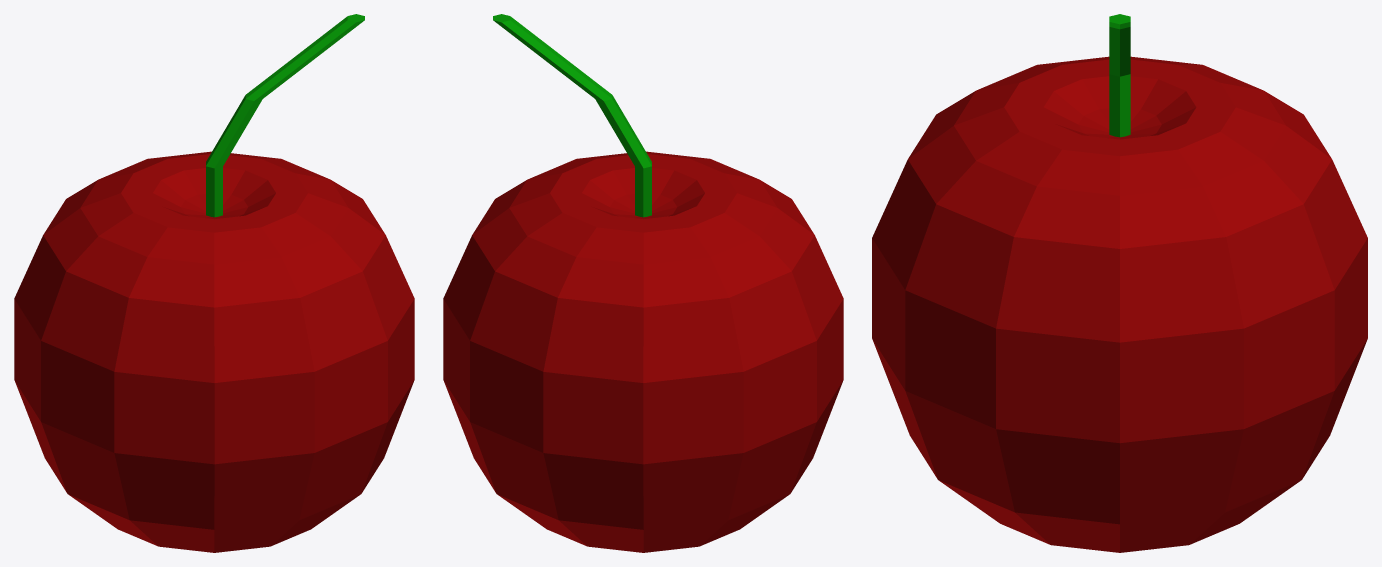
File: cherry.dae
3 renders of one model, left to right at view 1: azimuth 30°, elevation 25°; view 2: azimuth 150°, elevation 25°; view 3: azimuth 270°, elevation 25°, orthographic. The views are drawn at different scales.
Visible parts, largest first — view 1: ball, group_0, group_2, group_1; view 2: ball, group_0, group_2, group_1; view 3: ball, group_1, group_2.
Boxes of the visible parts, box(x1,y1,x2,y2) form: ball: box(14, 151, 414, 552); group_0: box(245, 14, 364, 100); group_2: box(206, 95, 262, 168); group_1: box(206, 166, 222, 217); ball: box(443, 151, 843, 552); group_0: box(493, 14, 612, 100); group_2: box(595, 95, 651, 168); group_1: box(635, 166, 651, 217); ball: box(872, 56, 1367, 552); group_1: box(1109, 74, 1130, 137); group_2: box(1109, 27, 1130, 76).
Size of the model in its own units: 5.54 by 5.54 by 7.3.
